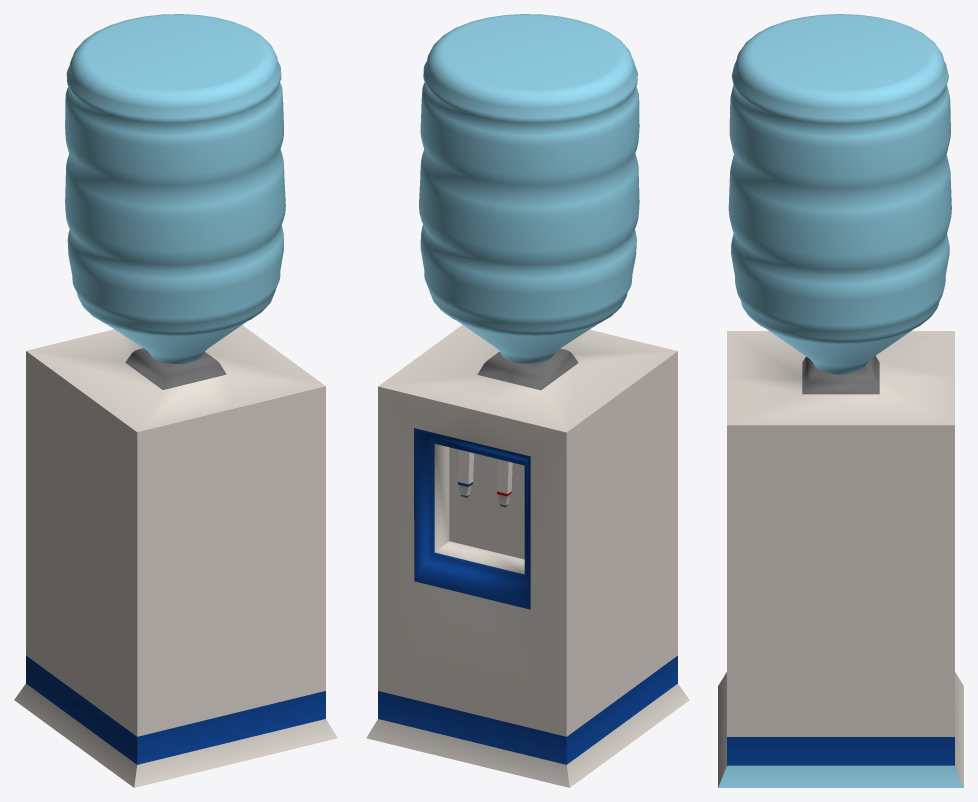
Rendered from SM_Prop_WaterFilter.fbx.
The picture shows the model from 3 angles, left to right: view 1: azimuth 30°, elevation 25°; view 2: azimuth 150°, elevation 25°; view 3: azimuth 270°, elevation 25°; orthographic projection. The views are drawn at different scales.
Visible parts, largest first — view 1: FiltroAgua; view 2: FiltroAgua; view 3: FiltroAgua.
Part boxes in pixels (x1,y1,x2,y2): FiltroAgua: (14, 14, 337, 787); FiltroAgua: (366, 14, 689, 787); FiltroAgua: (718, 14, 963, 787).
Bounding box in the file's own units: 129 × 405 × 132.
